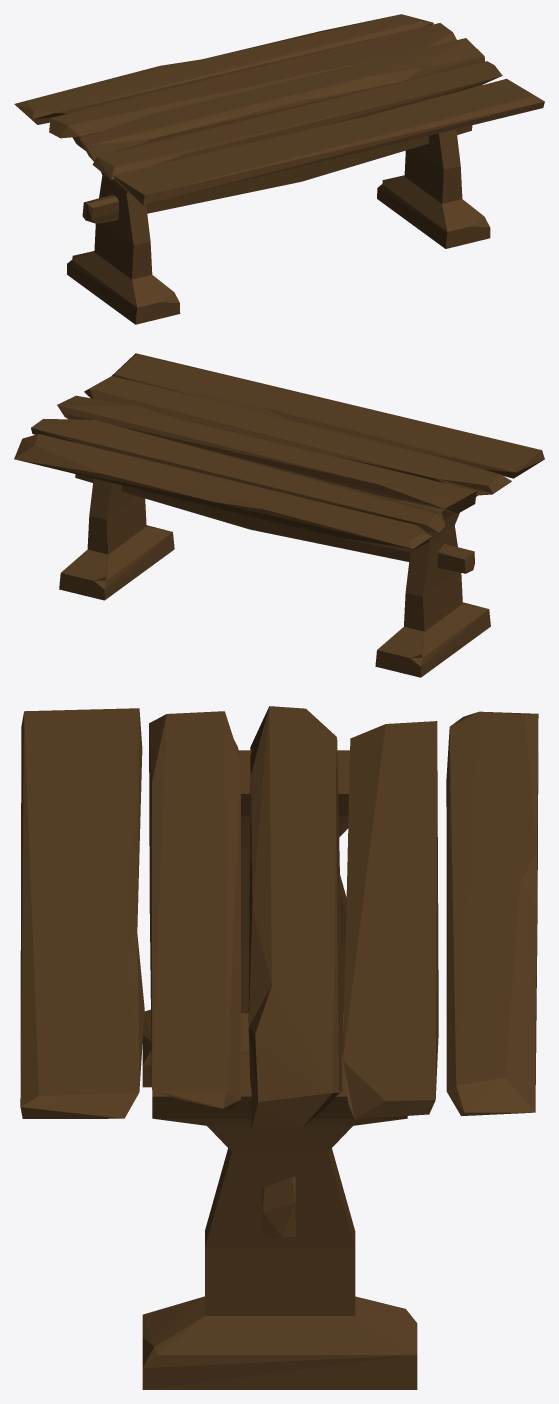
Rendered from SM_table_01.fbx.
The picture shows the model from 3 angles, top to bottom: view 1: azimuth 30°, elevation 25°; view 2: azimuth 150°, elevation 25°; view 3: azimuth 270°, elevation 25°; orthographic projection. The views are drawn at different scales.
Visible parts, largest first — view 1: Plane062; view 2: Plane062; view 3: Plane062.
Part boxes in pixels (box(x1,y1,x2,y2)): Plane062: box(14, 14, 544, 324); Plane062: box(14, 353, 544, 677); Plane062: box(20, 706, 538, 1389).
Size of the model in its own units: 103 by 39.22 by 57.49.
